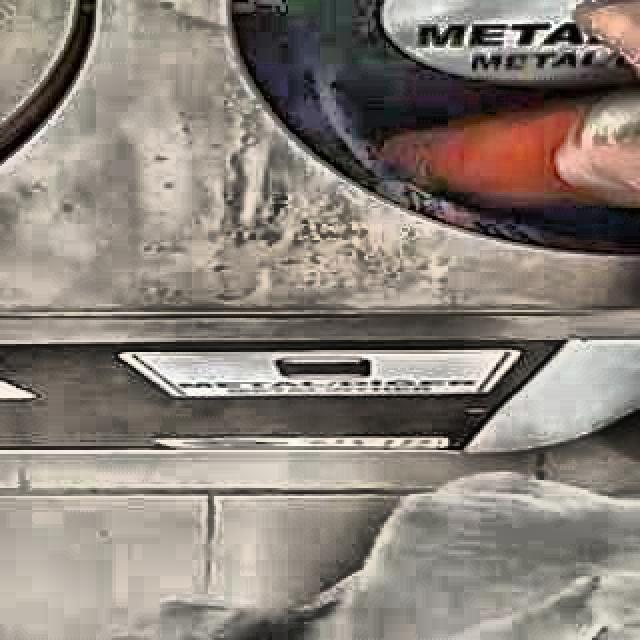metal: (381, 88, 640, 205)
